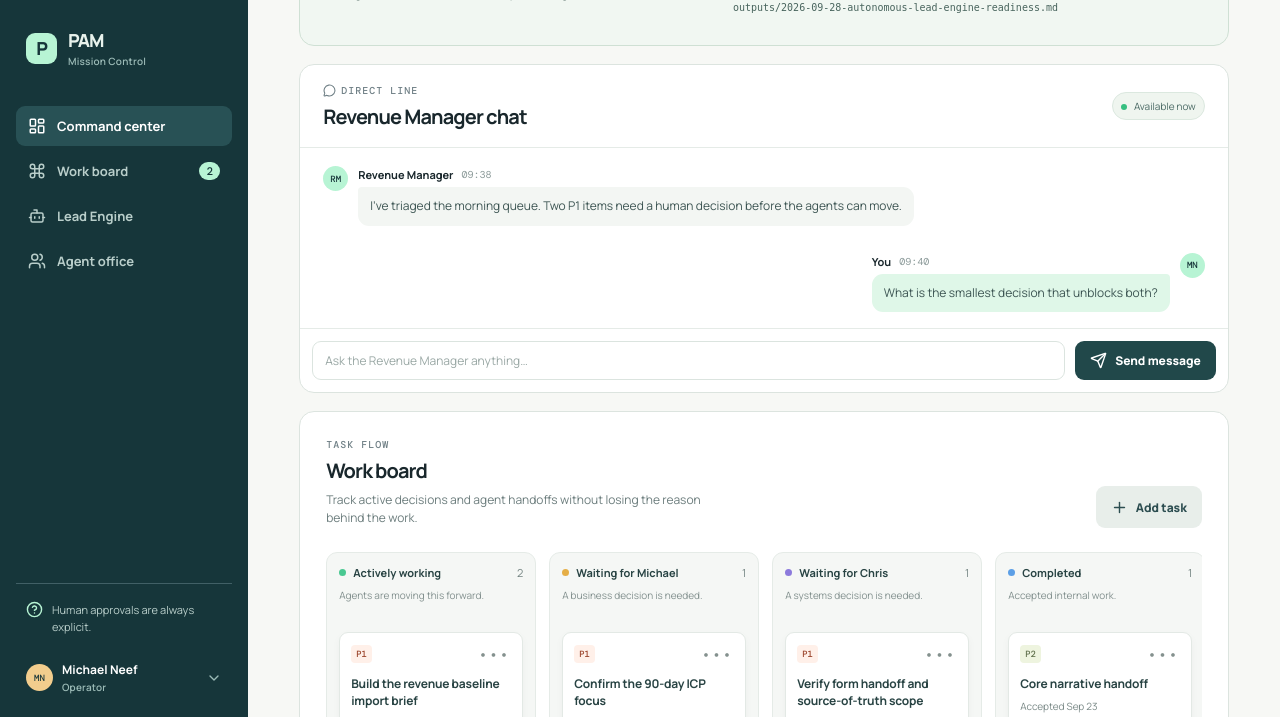
it: Mission Control › adds an operator message to the revenue manager chat
(page scrolled)
Type "What needs a decision?" into the field named "message revenue manager" at (689, 361), box [312,341,1065,380]
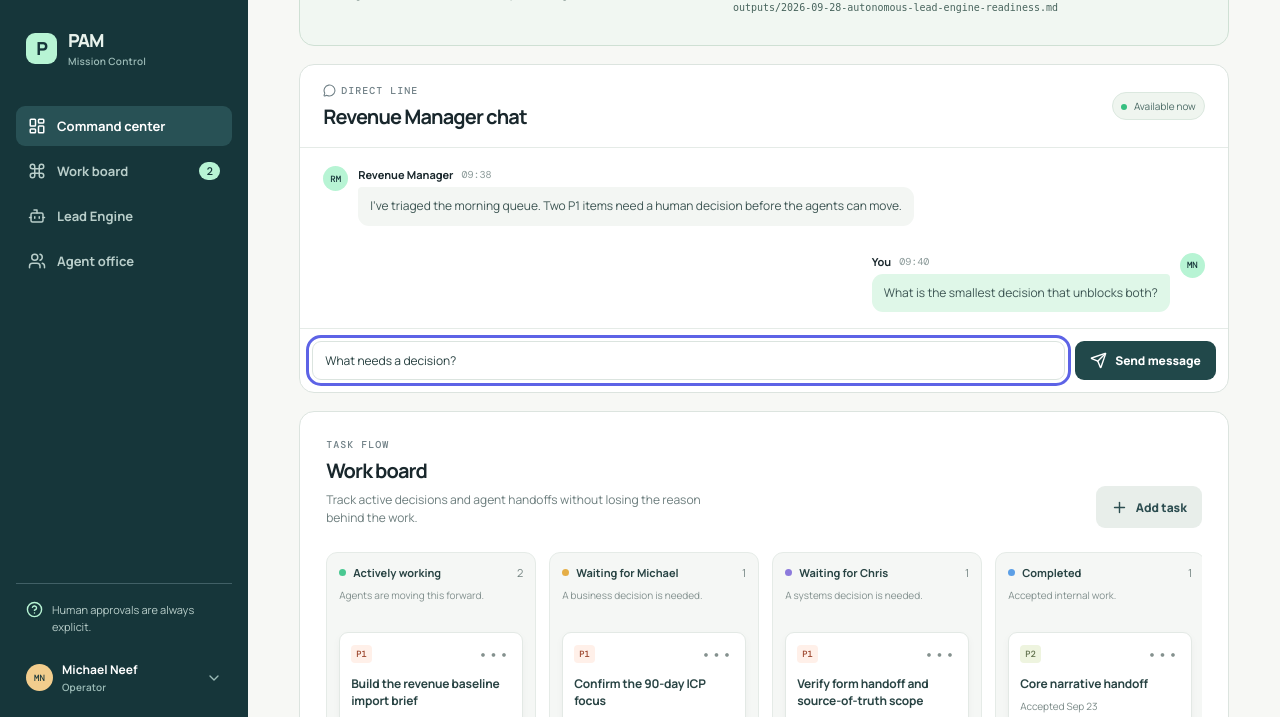
Click the button "Send message" at (1145, 361), box [1075,341,1216,380]
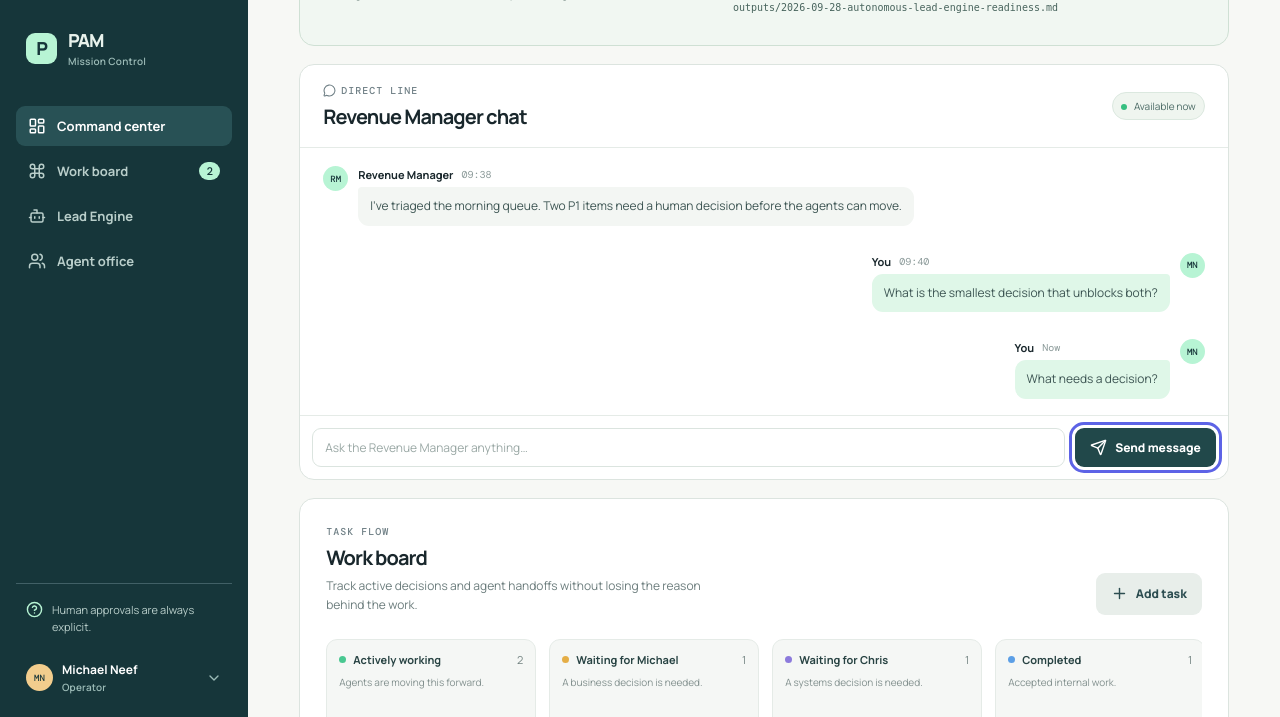
Result: the text "What needs a decision?" is shown at [1015,360,1170,399]
